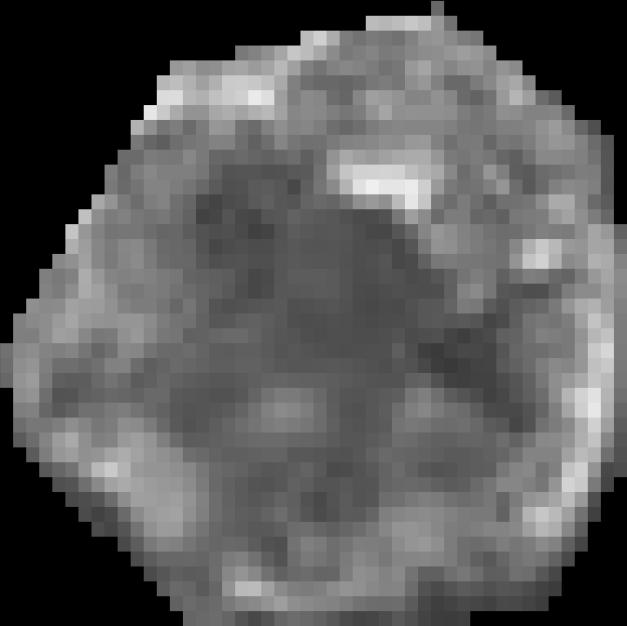tumor_good_chance: (0, 1, 627, 626)
